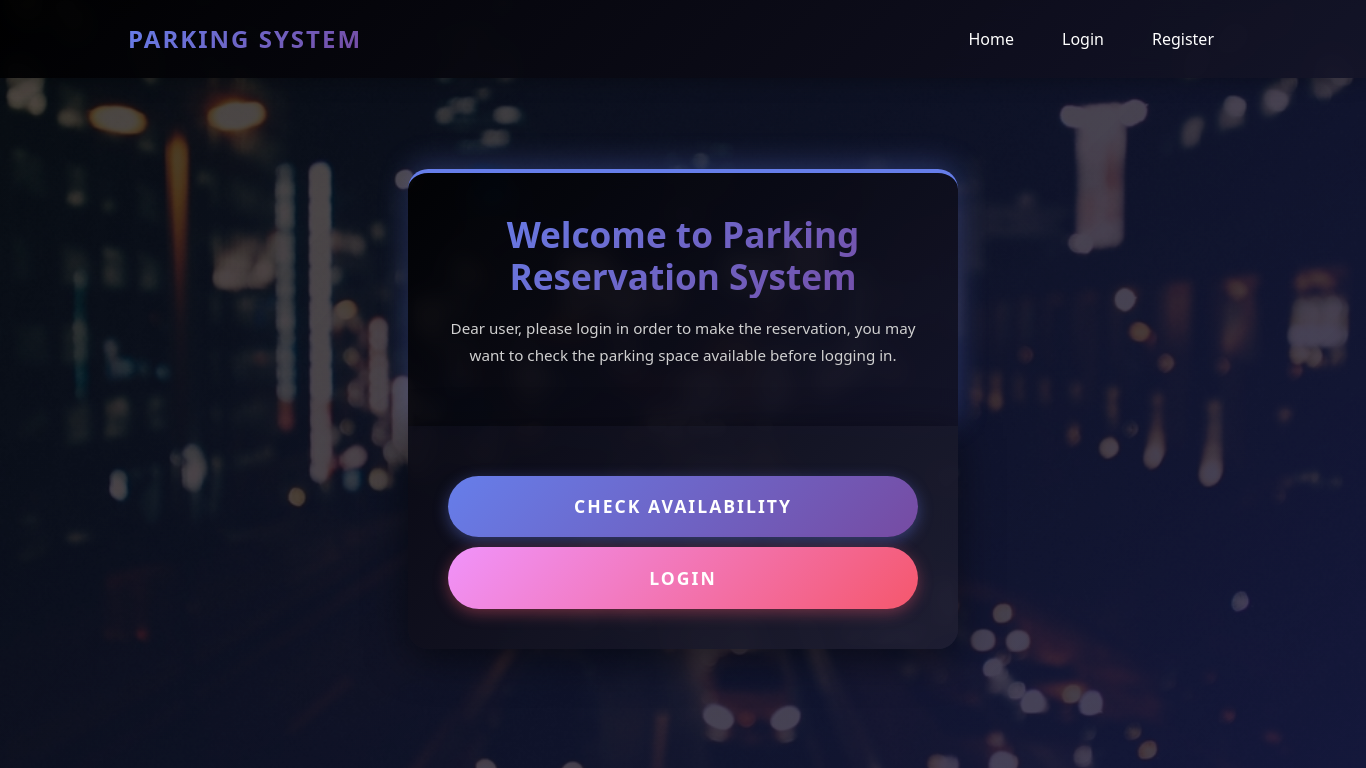
Scenario: Home › should show availability modal with spots count when clicked
Click the button "Check Availability".
click(683, 507)  # box [448,476,918,537]
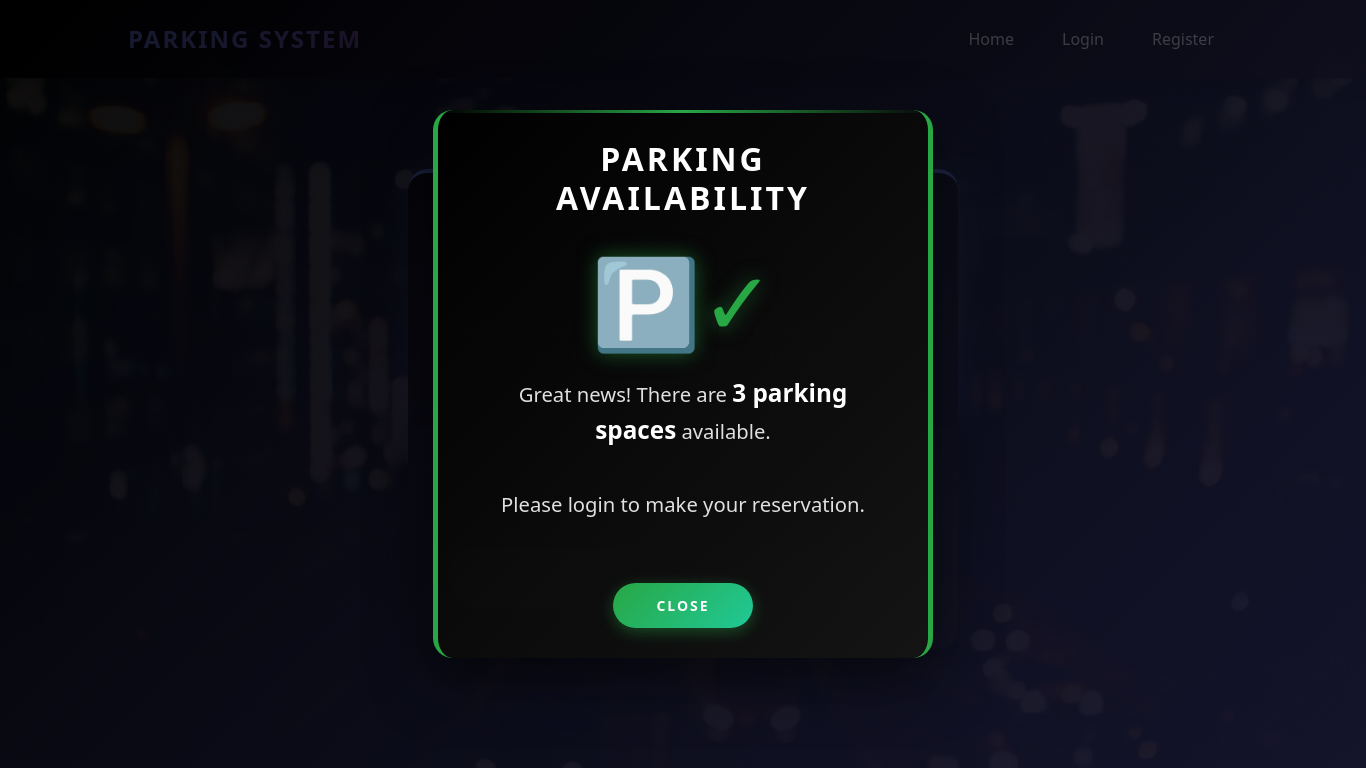
Check: the heading "Parking Availability" is shown, box [556,137,810,219]
Check: the text "3 parking spaces" is shown, box [595,376,847,446]
